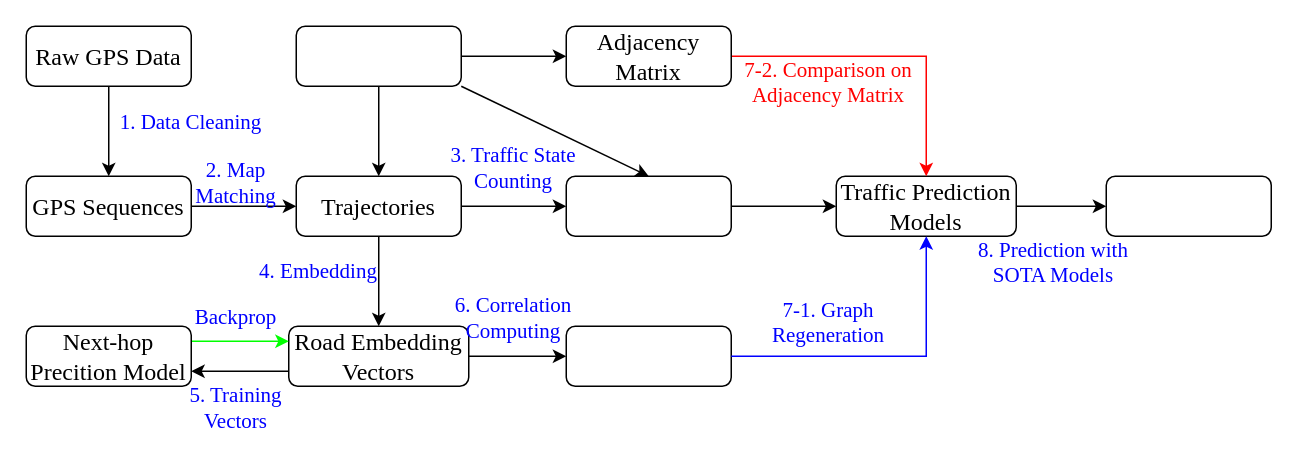
The diagram is 1298 pixels wide and 461 high, and some of its shapes have lost their labels. The shapes that lost their labels are listed below. From the top down, each one's centre as x and y in pixels, then its label:
the point at 378,55: Road Network Graph
the point at 648,205: Traffic States
the point at 1188,205: Future Traffic States
the point at 648,355: Road Correlation
